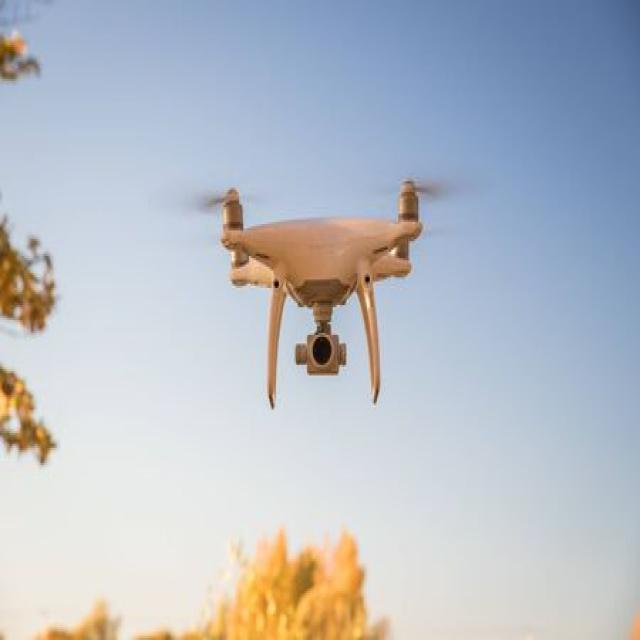drone: (198, 155, 438, 418)
